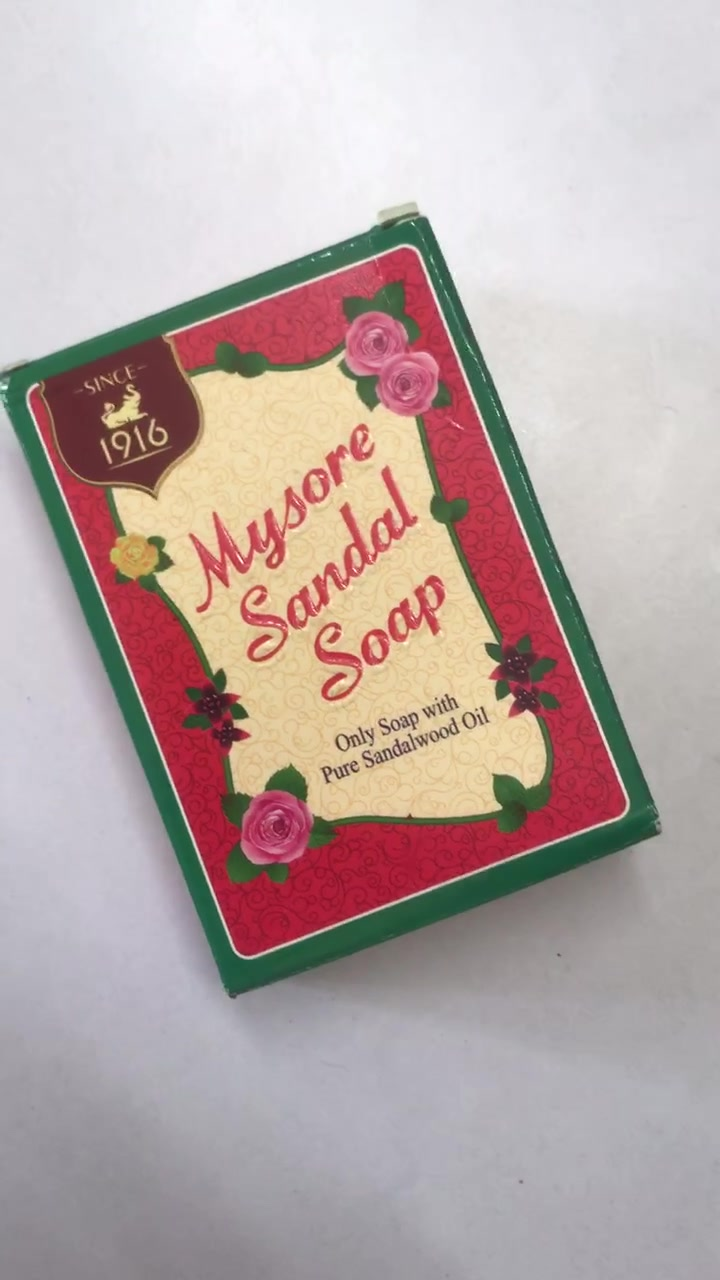mysore sandal soap: (1, 224, 653, 998)
